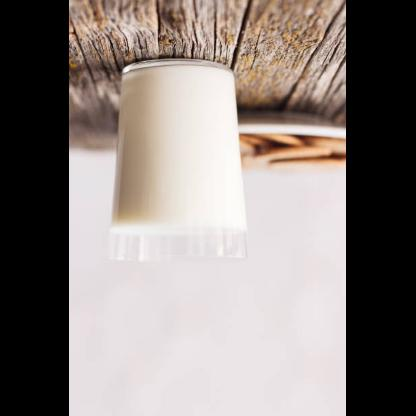milk: (112, 58, 249, 238)
